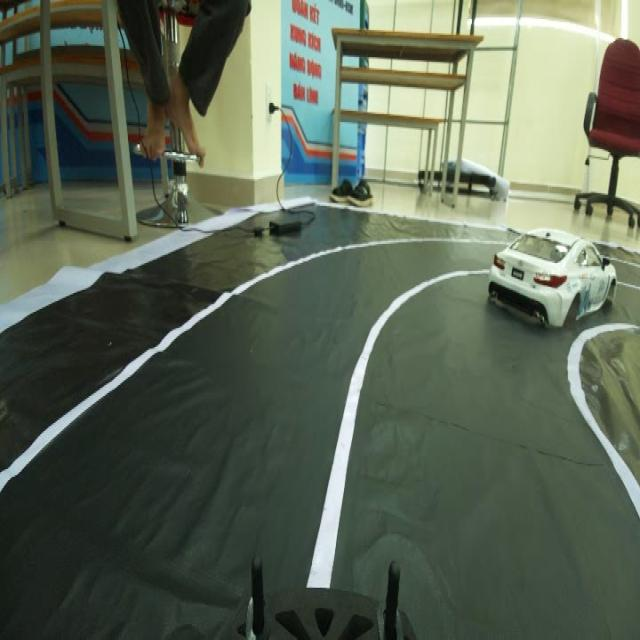car: (467, 198, 628, 341)
